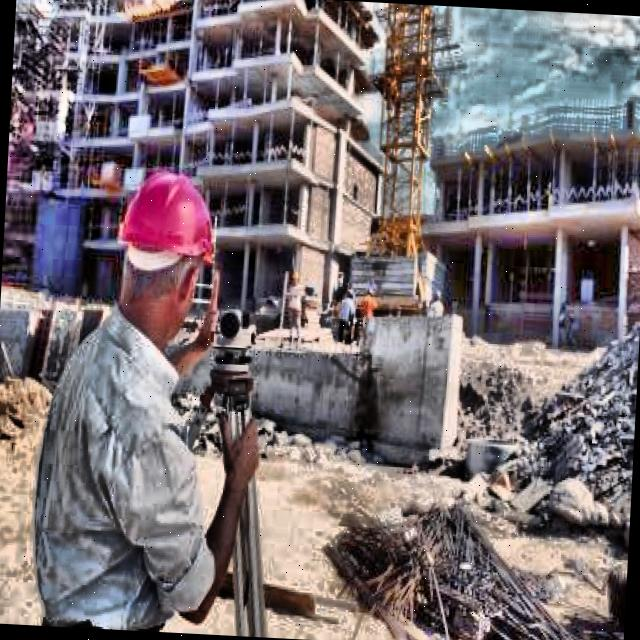helmet: (101, 153, 232, 349)
